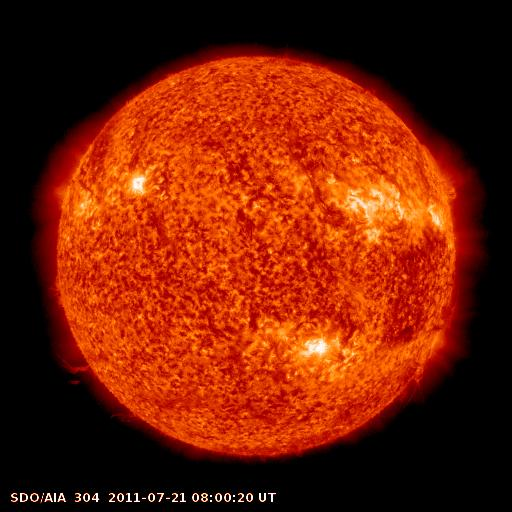prominence: (44, 296, 102, 388)
